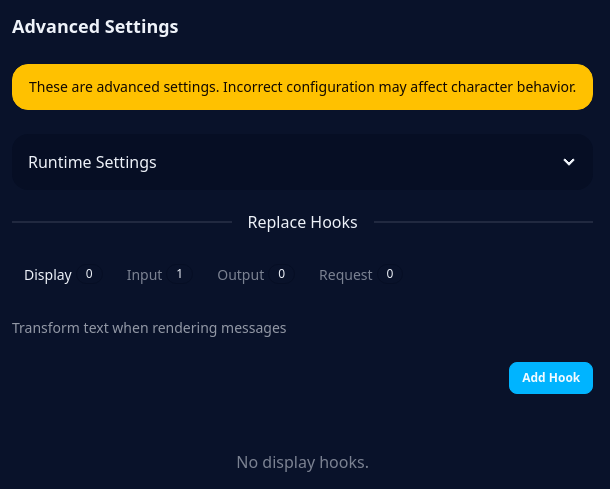
CharacterHooksSettings Component › switches between hook tabs
The image size is (610, 489).
Step 1. Click the tab "Input 1" → [160, 274], box [115,254,205,294]
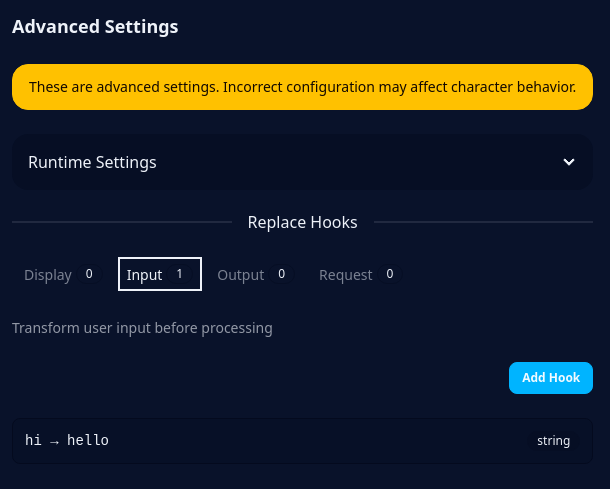
Result: the text "hi → hello" is shown at [25,433,109,449]
